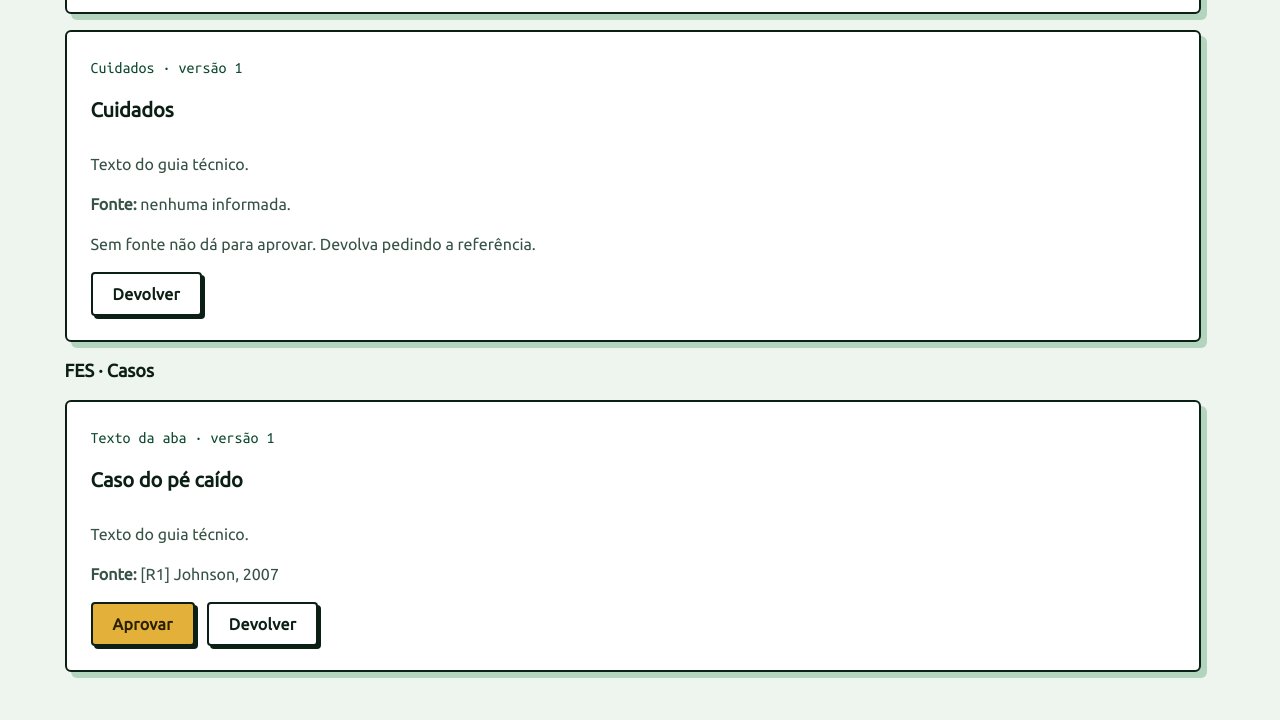
Test: deveAvisarNoDialogoQueOutraPessoaJaRevisouEAtualizarAFilaAoFechar
(page scrolled)
Click the button with aria-label "Devolver Caso do pé caído" at [262, 624], box x1=207 y1=602 x2=318 y2=646
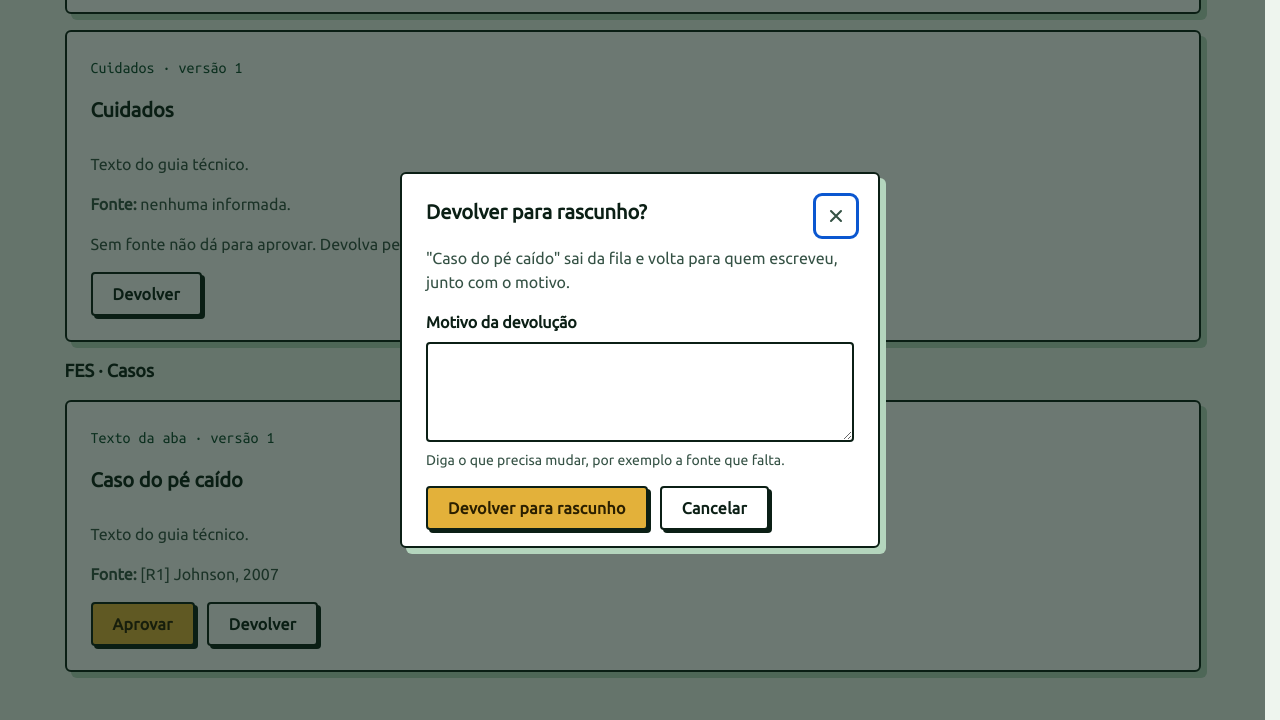
Type "Rever o caso." into the text box labelled "Motivo da devolução" at [640, 392], box x1=428 y1=344 x2=852 y2=440
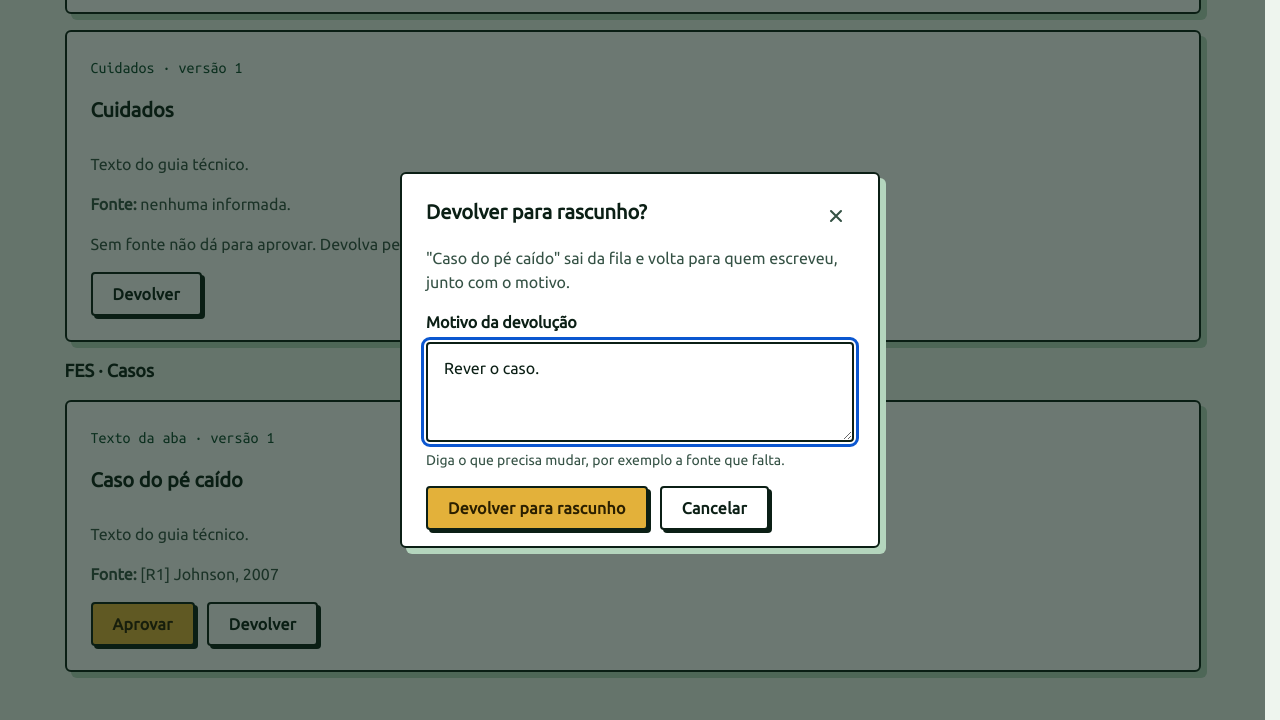
Click the button "Devolver para rascunho" at [537, 508], box x1=426 y1=486 x2=648 y2=530
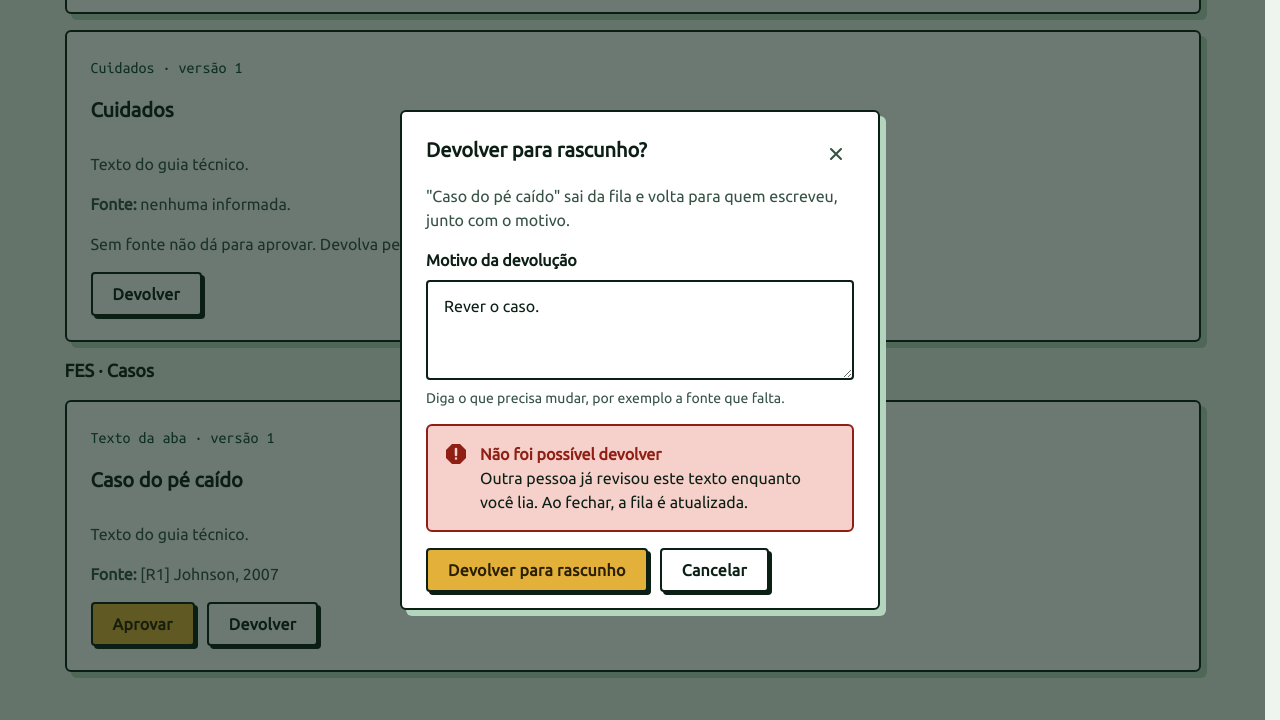
expect the message shows "Outra pessoa já revisou este texto enquanto você lia.": met, box x1=480 y1=469 x2=801 y2=511
Click the button "Cancelar" at [714, 570], box x1=660 y1=548 x2=769 y2=592
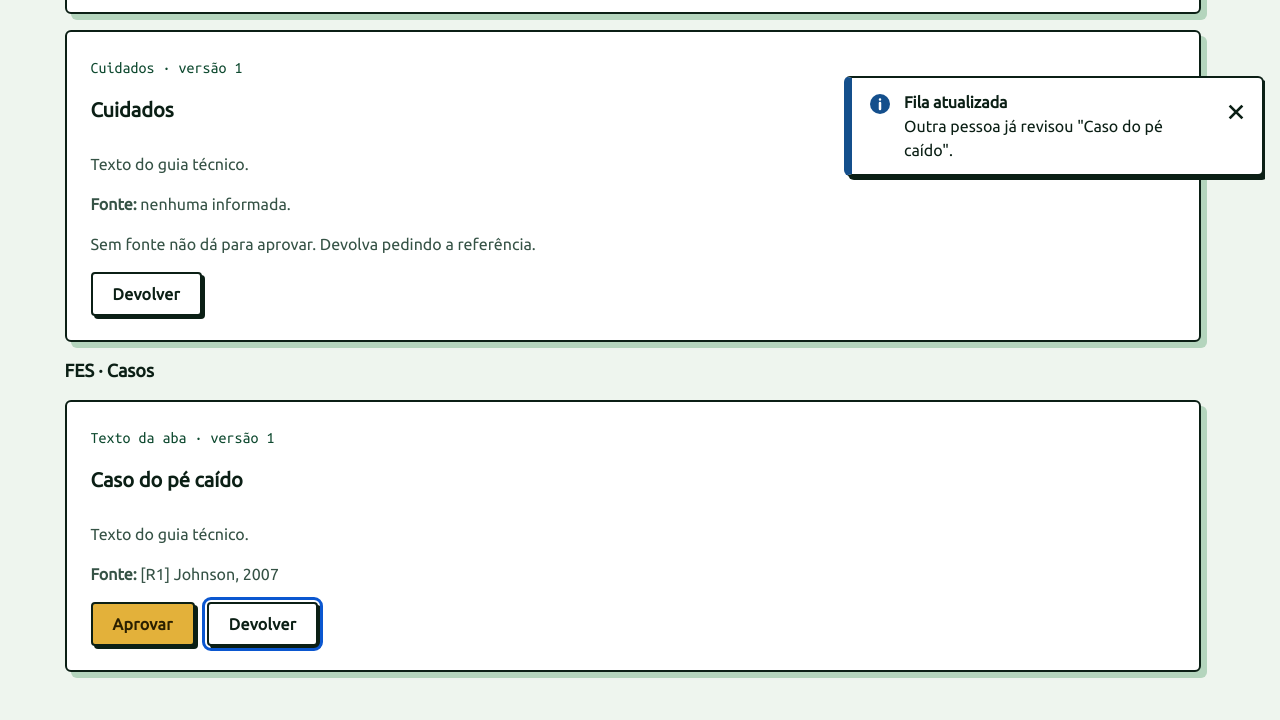
expect the text "Fila atualizada" is shown: met, box x1=904 y1=93 x2=1008 y2=111
